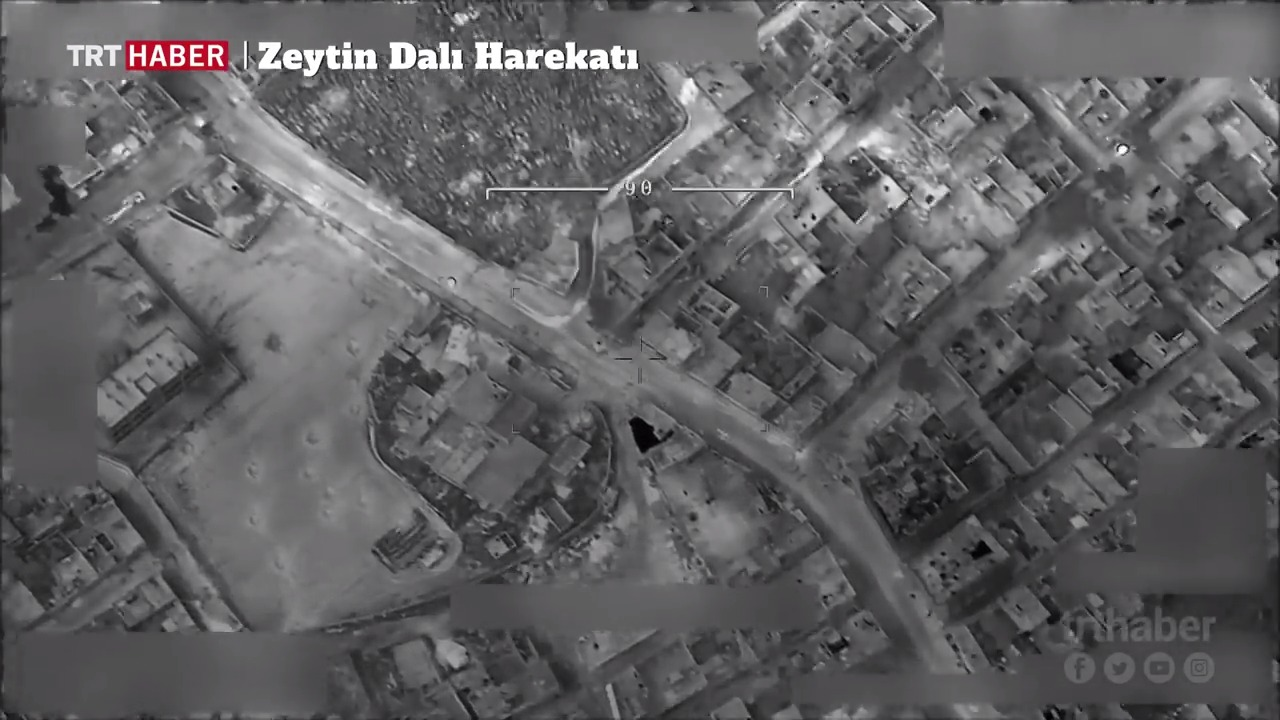bina: (97, 315, 213, 448)
